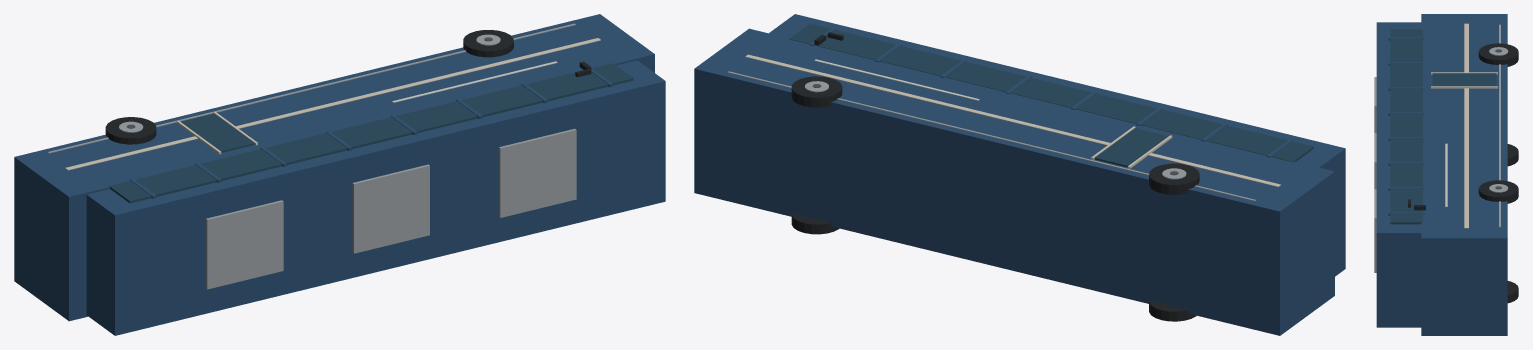
Rendered from RM_Bus_35.glb.
The picture shows the model from 3 angles, left to right: view 1: azimuth 30°, elevation 25°; view 2: azimuth 150°, elevation 25°; view 3: azimuth 270°, elevation 25°; orthographic projection. The views are drawn at different scales.
Visible parts, largest first — view 1: part_001, part_000, part_002, part_039, part_037, part_038, part_013, part_040, part_014, part_024, part_030; view 2: part_000, part_002, part_001, part_013, part_040, part_030, part_024, part_014, part_027, part_021; view 3: part_000, part_001, part_002, part_013, part_040, part_024, part_030, part_014, part_039, part_021, part_027, part_042 (+6 smaller).
Boxes of the visible parts, bbox=[...] form: part_001: bbox=[86, 60, 665, 335]; part_000: bbox=[14, 14, 654, 321]; part_002: bbox=[109, 63, 633, 203]; part_039: bbox=[498, 128, 576, 217]; part_037: bbox=[206, 200, 283, 289]; part_038: bbox=[352, 164, 429, 253]; part_013: bbox=[65, 38, 600, 170]; part_040: bbox=[180, 113, 254, 152]; part_014: bbox=[47, 23, 575, 153]; part_024: bbox=[105, 117, 156, 144]; part_030: bbox=[463, 30, 513, 57]; part_000: bbox=[694, 28, 1334, 335]; part_002: bbox=[789, 24, 1313, 161]; part_001: bbox=[769, 14, 1345, 276]; part_013: bbox=[745, 54, 1280, 186]; part_040: bbox=[1094, 128, 1168, 167]; part_030: bbox=[791, 76, 842, 107]; part_024: bbox=[1149, 163, 1199, 194]; part_014: bbox=[727, 71, 1255, 201]; part_027: bbox=[791, 213, 839, 234]; part_021: bbox=[1149, 300, 1196, 321]; part_000: bbox=[1421, 14, 1507, 335]; part_001: bbox=[1376, 22, 1421, 327]; part_002: bbox=[1390, 29, 1422, 224]; part_013: bbox=[1464, 23, 1468, 228]; part_040: bbox=[1432, 73, 1496, 86]; part_024: bbox=[1478, 43, 1518, 66]; part_030: bbox=[1478, 180, 1518, 203]; part_014: bbox=[1499, 24, 1500, 227]; part_039: bbox=[1374, 189, 1376, 272]; part_021: bbox=[1507, 144, 1518, 166]; part_027: bbox=[1507, 281, 1518, 303]; part_042: bbox=[1431, 86, 1497, 88].
Bounding box in the file's own units: 12.48 × 2.85 × 3.4.
